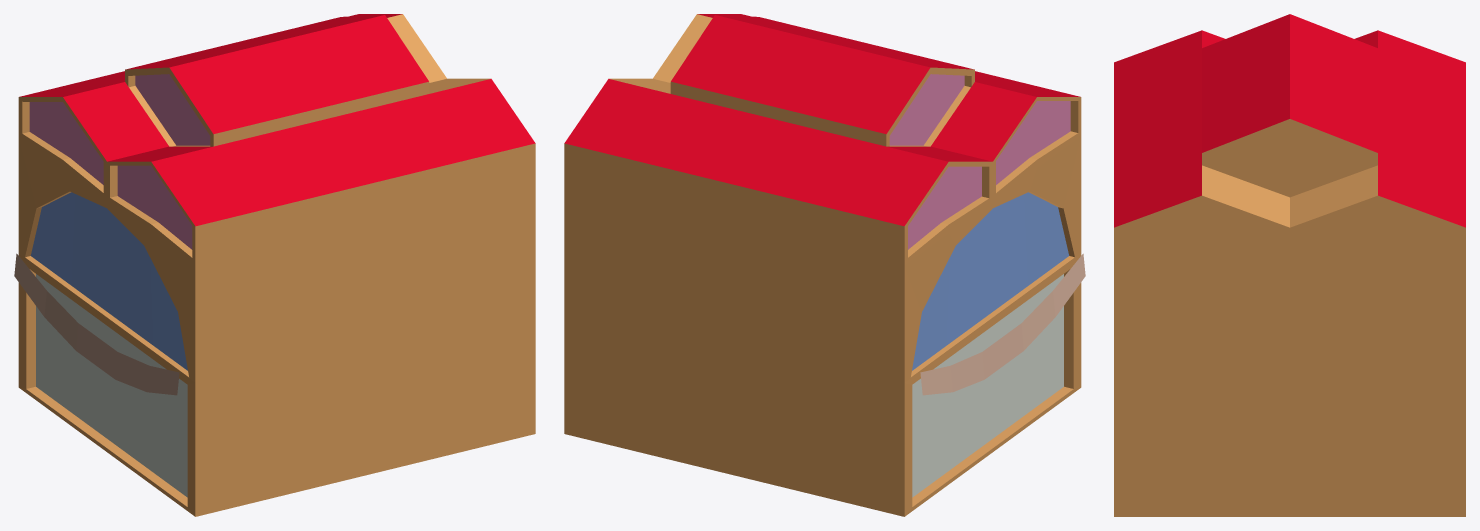
The model's file is HeavenBar.fbx.
The picture shows the model from 3 angles, left to right: view 1: azimuth 30°, elevation 25°; view 2: azimuth 150°, elevation 25°; view 3: azimuth 270°, elevation 25°; orthographic projection.
Parts seen in each view (by area): view 1: Cube, Plane; view 2: Cube, Plane; view 3: Cube.
Boxes of the visible parts, x1,y1,x2,y2 form: Cube: [18, 14, 535, 516]; Plane: [14, 253, 179, 395]; Cube: [564, 14, 1081, 516]; Plane: [920, 253, 1085, 395]; Cube: [1114, 14, 1465, 516].
Bounding box in the file's own units: 1034 × 1038 × 900.
